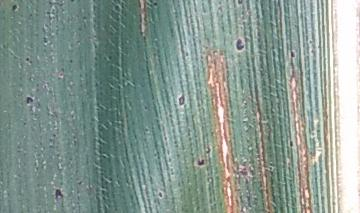tarspot: (54, 187, 65, 203), (234, 37, 245, 51), (176, 94, 187, 108), (195, 158, 205, 168), (24, 55, 33, 66), (25, 95, 33, 106), (11, 2, 18, 14), (288, 138, 295, 149), (204, 145, 211, 155), (157, 190, 163, 200), (289, 50, 296, 58), (67, 58, 74, 65), (142, 104, 149, 111), (107, 53, 113, 61), (81, 14, 87, 22), (236, 1, 245, 5), (152, 1, 158, 7), (68, 1, 76, 3)
